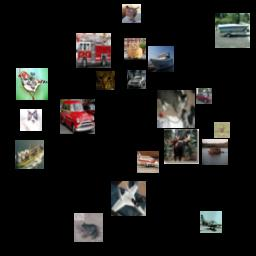airplane: (111, 181, 146, 216), (137, 151, 159, 173), (200, 211, 222, 233)
automobile: (60, 99, 95, 134), (127, 70, 146, 89), (196, 88, 212, 104)
bird: (16, 68, 48, 100)
cat: (157, 90, 195, 128), (20, 109, 42, 131), (124, 38, 146, 60), (96, 71, 115, 90)
deer: (164, 129, 199, 164), (214, 122, 230, 138)
frog: (74, 213, 103, 242)
ship: (215, 13, 250, 48), (15, 140, 44, 169), (148, 46, 174, 72), (202, 139, 228, 165)
truck: (76, 33, 111, 68)
